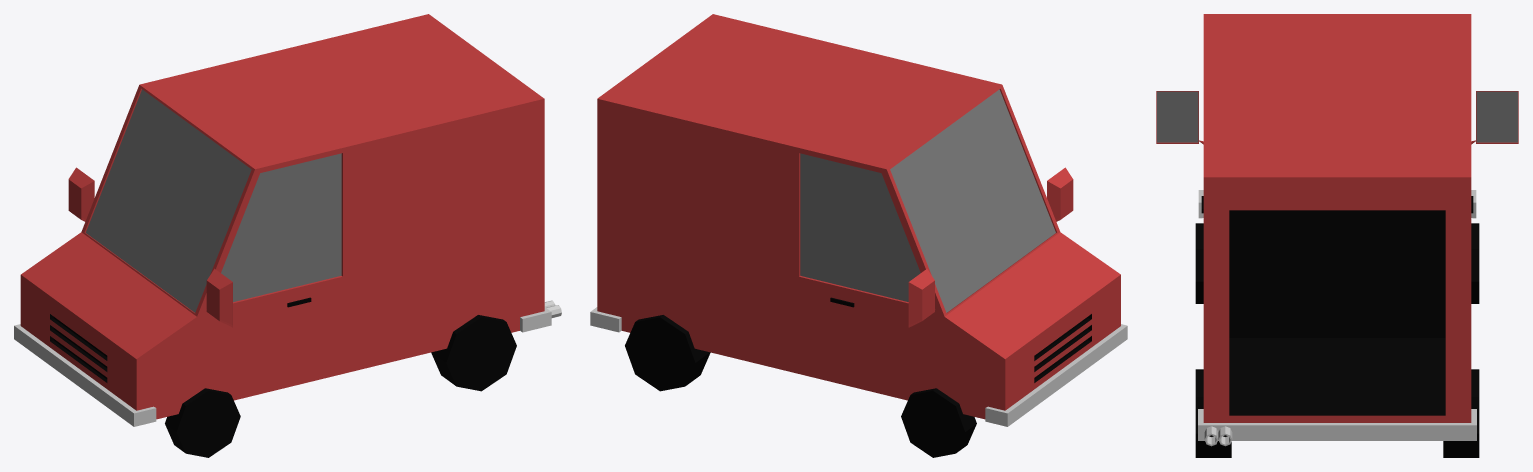
File: van01.fbx
3 renders of one model, left to right at view 1: azimuth 30°, elevation 25°; view 2: azimuth 150°, elevation 25°; view 3: azimuth 270°, elevation 25°, orthographic. The views are drawn at different scales.
Parts seen in each view (by area): view 1: pPipe4; view 2: pPipe4; view 3: pPipe4.
Boxes of the visible parts, x1,y1,x2,y2 form: pPipe4: (14,14,561,457); pPipe4: (590,14,1127,457); pPipe4: (1156,14,1518,457).
Size of the model in its own units: 11.61 by 7.06 by 7.32.
